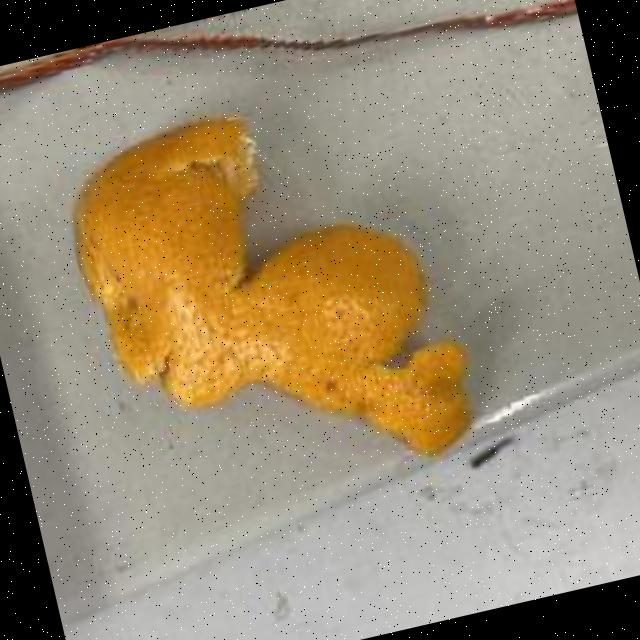orange-peel: (48, 69, 490, 526)
